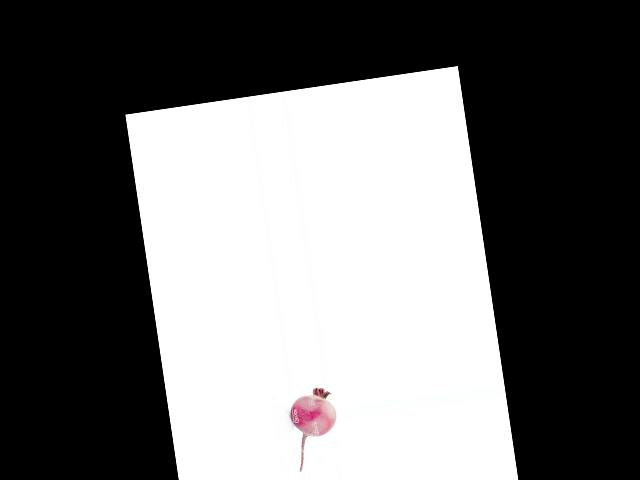beet: (286, 385, 343, 471)
